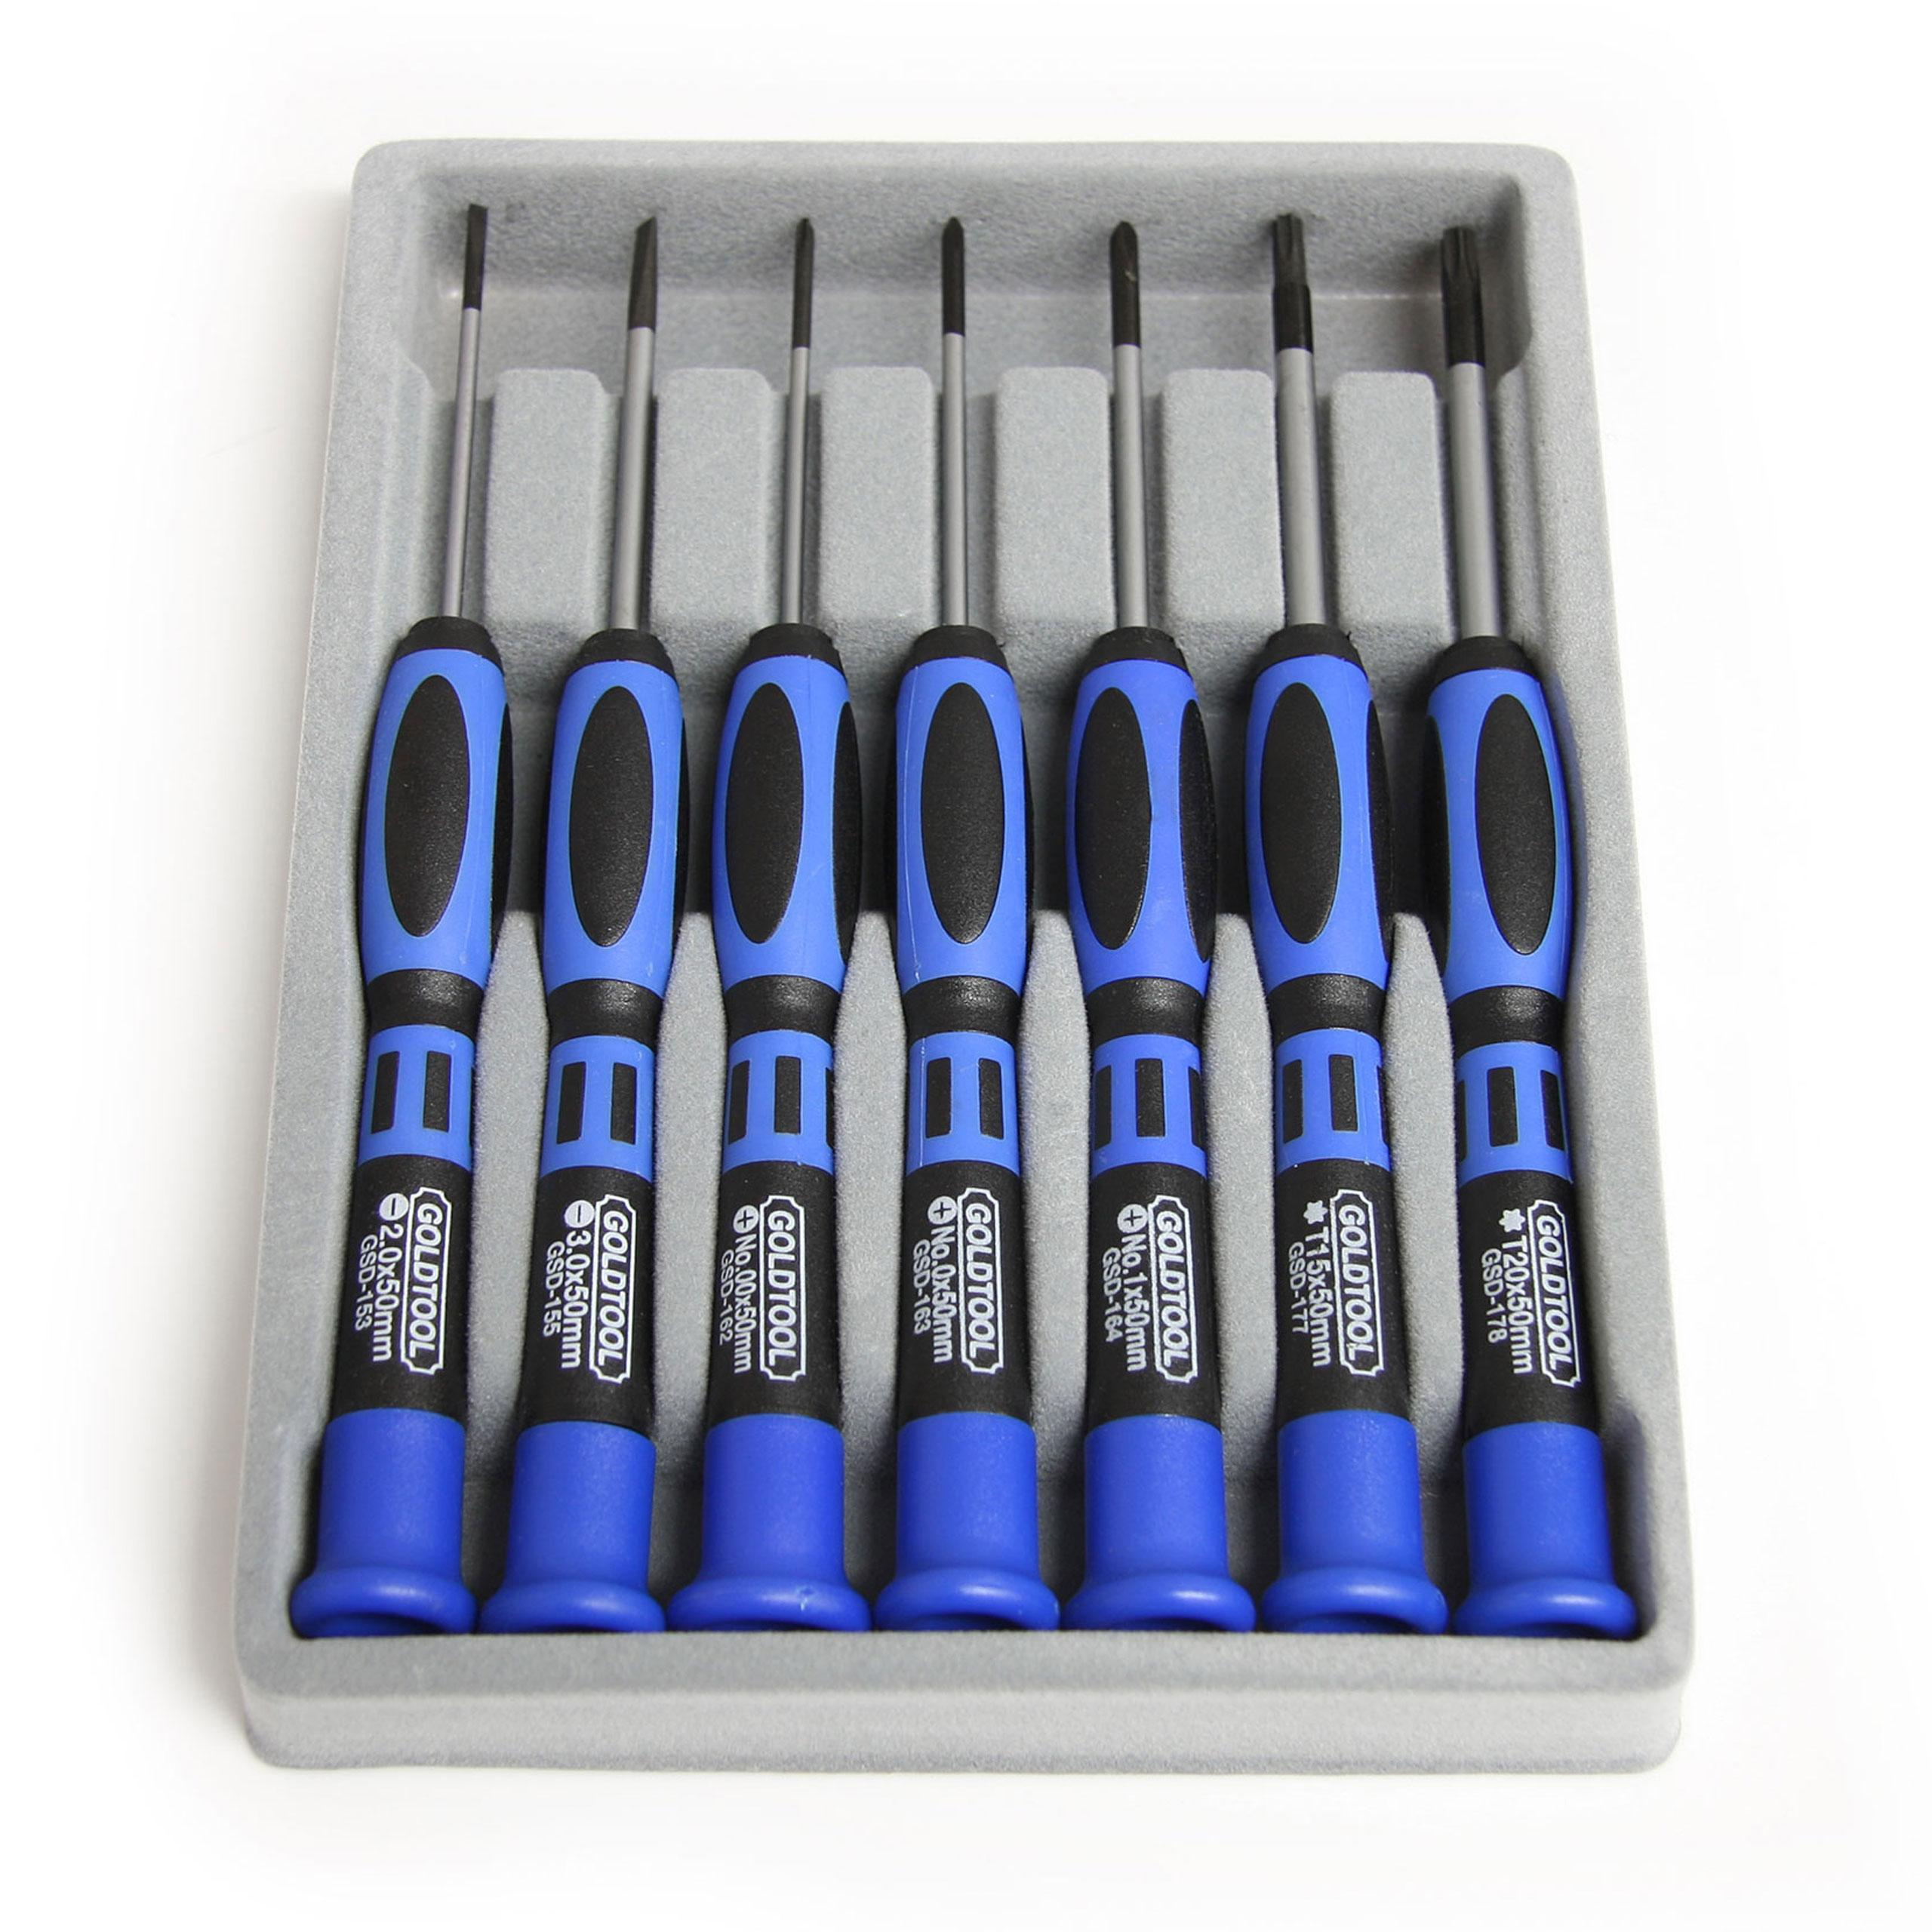screwdriver: (1422, 221, 1660, 1638), (283, 205, 513, 1635), (1037, 221, 1269, 1631), (1223, 209, 1453, 1624), (663, 212, 874, 1635), (883, 212, 1083, 1633), (485, 191, 671, 1635)
